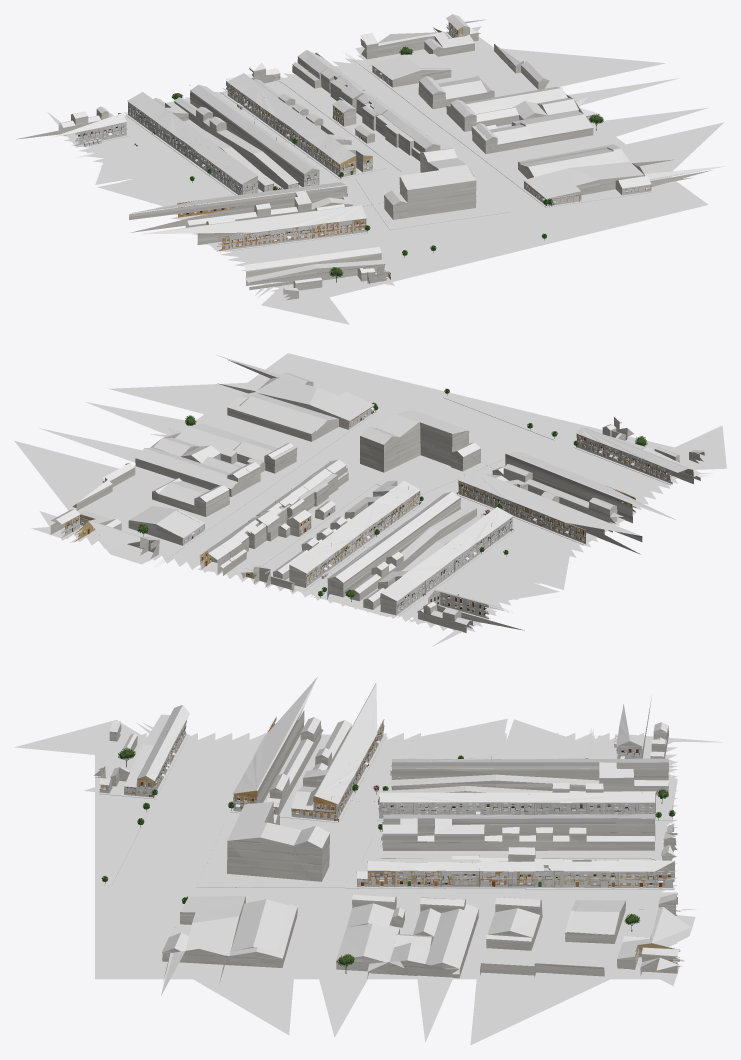
File: zona_4_-3.glb
3 renders of one model, top to bottom at view 1: azimuth 30°, elevation 25°; view 2: azimuth 150°, elevation 25°; view 3: azimuth 270°, elevation 25°, orthographic. The views are drawn at different scales.
Visible parts, largest first — view 1: z_calle_4_-3, z_tejados_4_-3, z_casas_4_-3, z_fachadas_4_-3, z_suelo_4_-3, z_casas_planas_4_-3, z_arboles_4_-3, z_detalles_pueblo_4_-3; view 2: z_calle_4_-3, z_tejados_4_-3, z_casas_4_-3, z_fachadas_4_-3, z_suelo_4_-3, z_casas_planas_4_-3, z_arboles_4_-3, z_detalles_pueblo_4_-3; view 3: z_calle_4_-3, z_tejados_4_-3, z_casas_4_-3, z_fachadas_4_-3, z_suelo_4_-3, z_arboles_4_-3, z_detalles_pueblo_4_-3, z_casas_planas_4_-3.
Boxes of the visible parts, left/top/right/bottom form: z_calle_4_-3: left=47, top=26, right=723, bottom=324; z_tejados_4_-3: left=51, top=14, right=725, bottom=290; z_casas_4_-3: left=16, top=22, right=674, bottom=300; z_fachadas_4_-3: left=75, top=24, right=651, bottom=276; z_suelo_4_-3: left=80, top=89, right=414, bottom=279; z_casas_planas_4_-3: left=356, top=90, right=718, bottom=187; z_arboles_4_-3: left=171, top=46, right=603, bottom=282; z_detalles_pueblo_4_-3: left=81, top=84, right=644, bottom=235; z_calle_4_-3: left=14, top=353, right=726, bottom=646; z_tejados_4_-3: left=39, top=355, right=704, bottom=625; z_casas_4_-3: left=50, top=359, right=704, bottom=632; z_fachadas_4_-3: left=61, top=382, right=672, bottom=618; z_suelo_4_-3: left=302, top=427, right=602, bottom=621; z_casas_planas_4_-3: left=234, top=360, right=348, bottom=599; z_arboles_4_-3: left=137, top=388, right=647, bottom=601; z_detalles_pueblo_4_-3: left=202, top=410, right=659, bottom=615; z_calle_4_-3: left=15, top=718, right=722, bottom=1045; z_tejados_4_-3: left=99, top=677, right=690, bottom=995; z_casas_4_-3: left=94, top=683, right=680, bottom=983; z_fachadas_4_-3: left=100, top=717, right=679, bottom=966; z_suelo_4_-3: left=98, top=735, right=675, bottom=833; z_arboles_4_-3: left=101, top=748, right=675, bottom=973; z_detalles_pueblo_4_-3: left=99, top=743, right=664, bottom=887; z_casas_planas_4_-3: left=161, top=805, right=672, bottom=993.
Size of the model in its own units: 287 by 15.33 by 249.
